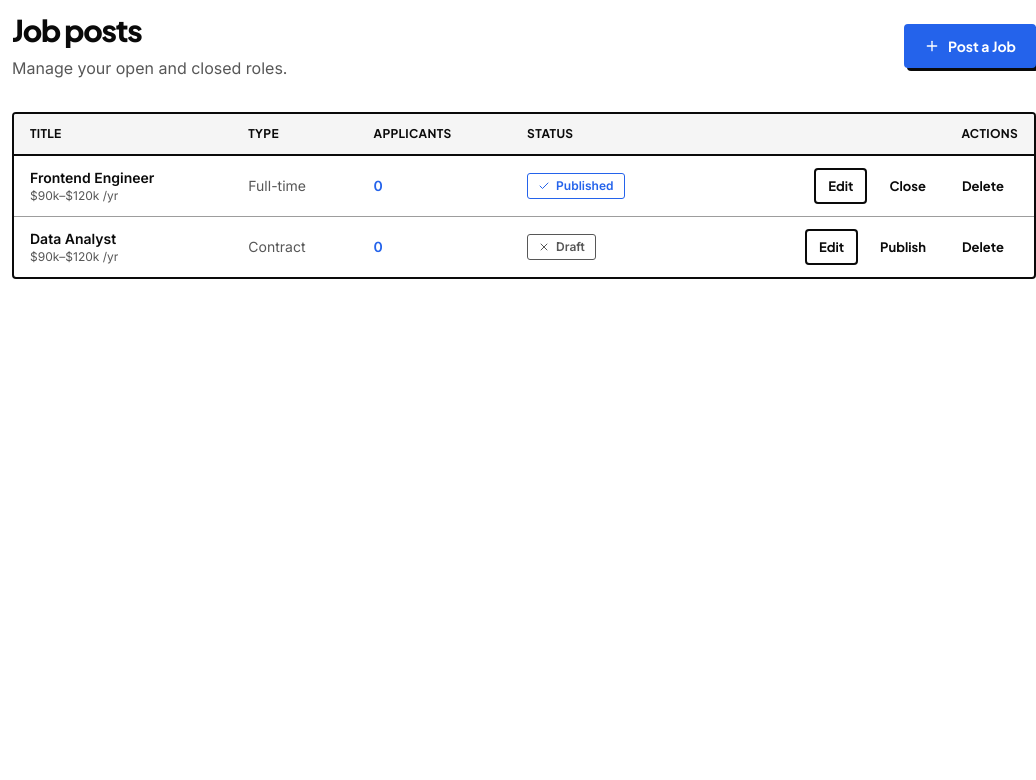
Test: CompanyJobs › delete DELETEs the job and the row disappears after refetch
Click the button "Delete" in the row of "Data Analyst" at (983, 247), box [948, 229, 1018, 265]
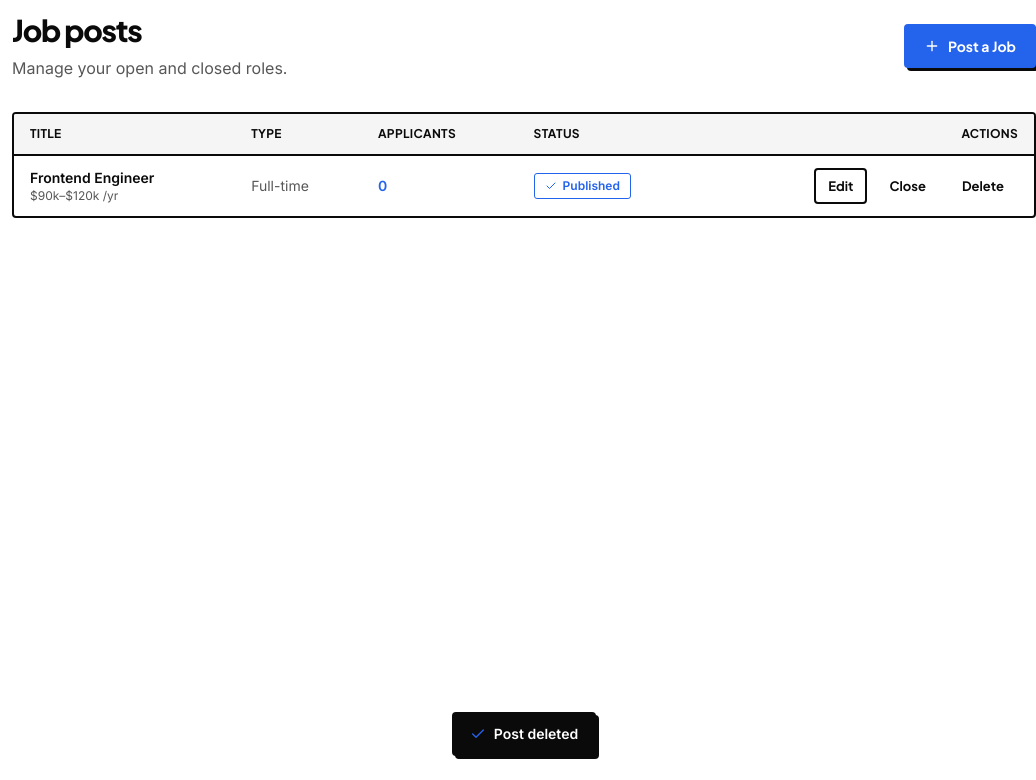
Expected: the text "Frontend Engineer" is shown, [30, 169, 154, 186]
Expected: the text "Post deleted" is shown, [452, 712, 596, 756]
Expected: the text "Data Analyst" is gone
